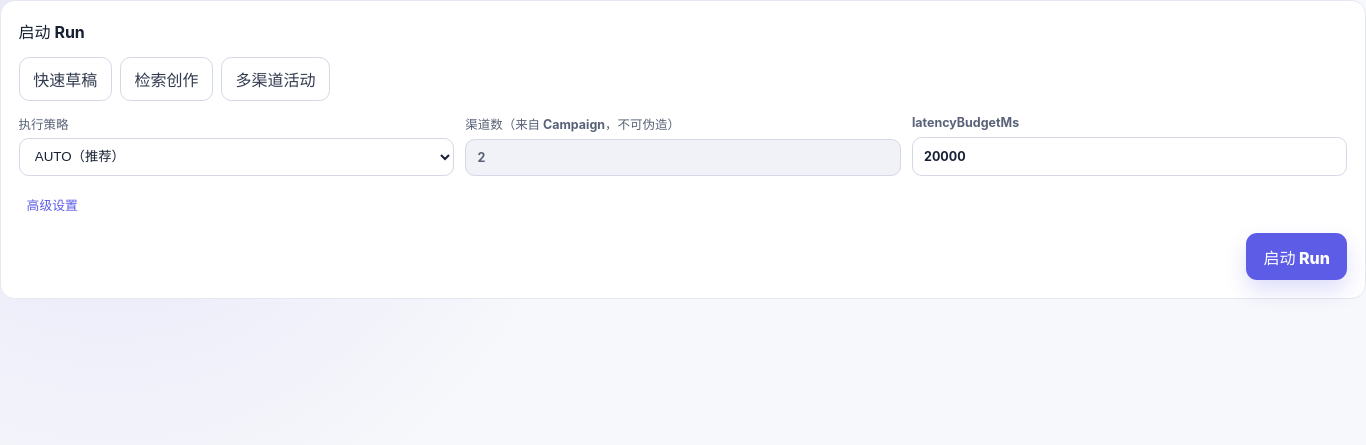
RunSetupPanel › rejects invalid probabilities and negative counts before any request
This screenshot has width=1366, height=445.
Click the button with test id "run-advanced-toggle" at (52, 205), box [19,190,86,219]
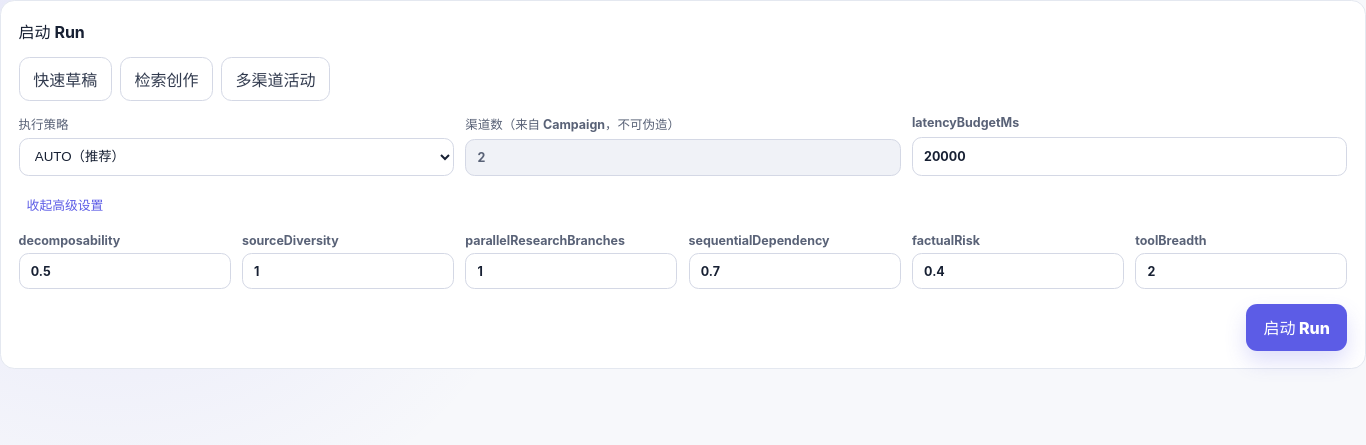
Replace the text in the number field with test id "task-factual-risk" with "1.5" at (1018, 271), box [912,253,1124,289]
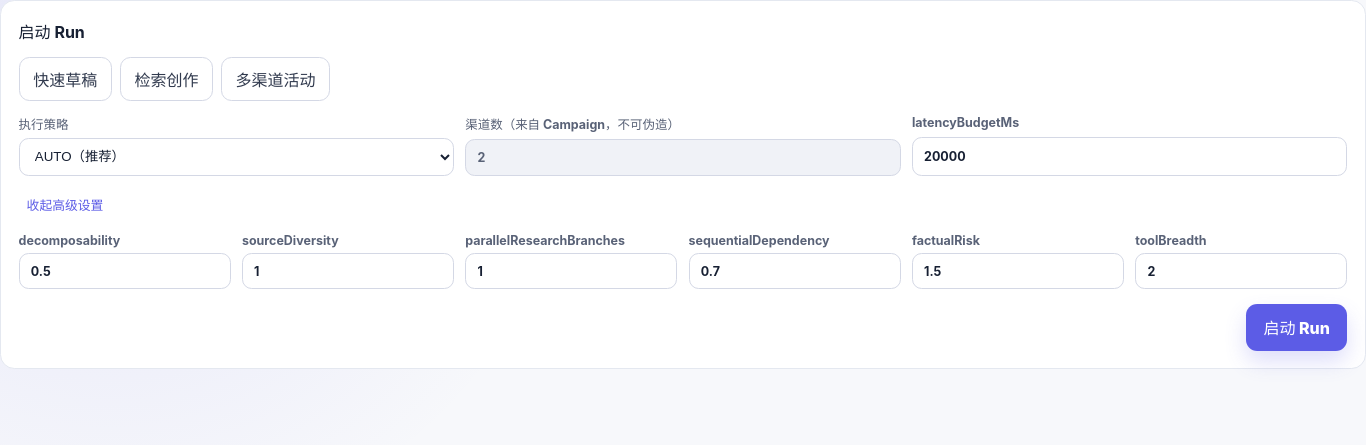
Click the button with test id "run-submit" at (1297, 327), box [1246,304,1347,351]
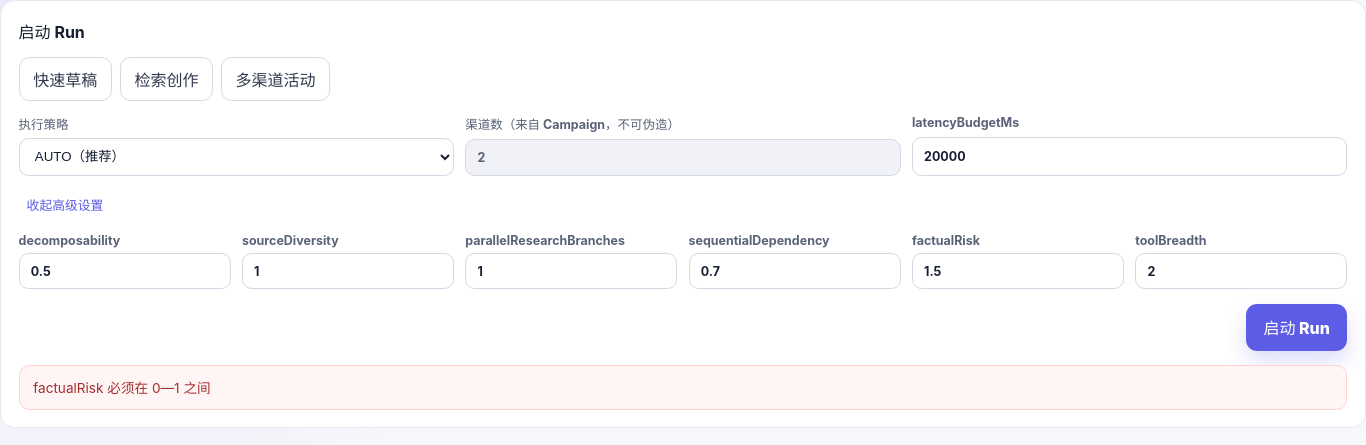
Expected: the message with test id "run-error" shows "0—1", [33,380,211,396]
